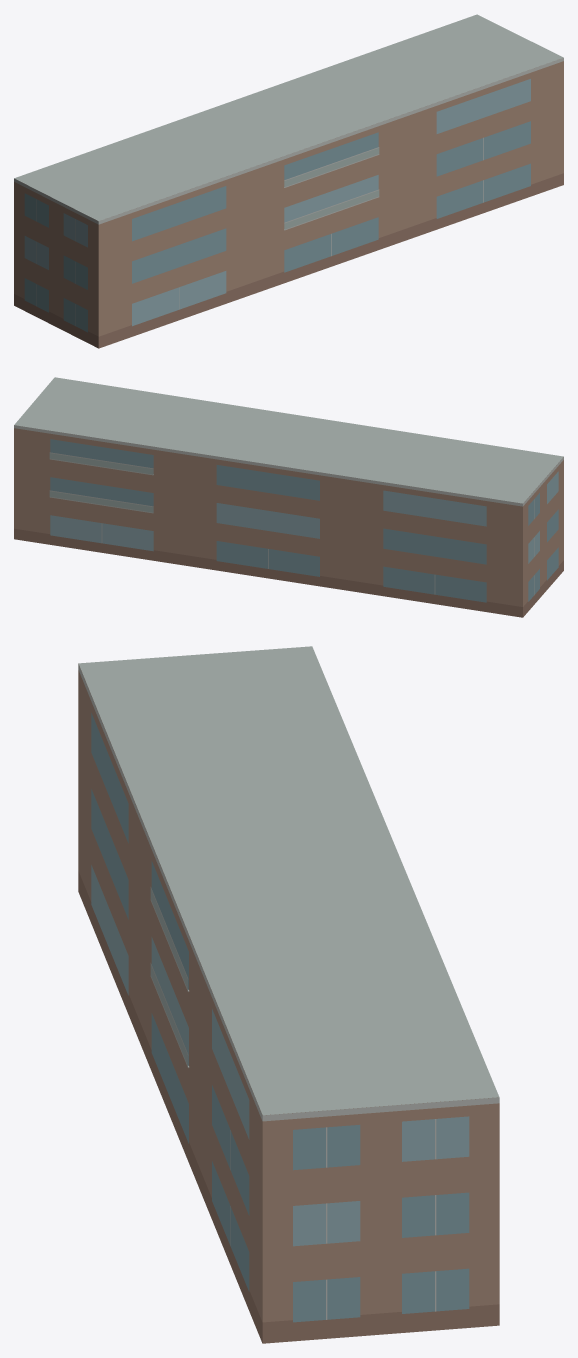
Rendered from survey-upis-32753549.glb.
3 renders of one model, top to bottom at view 1: azimuth 30°, elevation 25°; view 2: azimuth 150°, elevation 25°; view 3: azimuth 270°, elevation 25°, orthographic. The views are drawn at different scales.
Parts seen in each view (by area): view 1: survey-upis-32753549.tmp; view 2: survey-upis-32753549.tmp; view 3: survey-upis-32753549.tmp.
Part boxes in pixels (bbox=[...]): survey-upis-32753549.tmp: bbox=[14, 14, 563, 348]; survey-upis-32753549.tmp: bbox=[14, 377, 563, 617]; survey-upis-32753549.tmp: bbox=[78, 646, 499, 1343].
Size of the model in its own units: 40.33 by 9.15 by 15.31.
